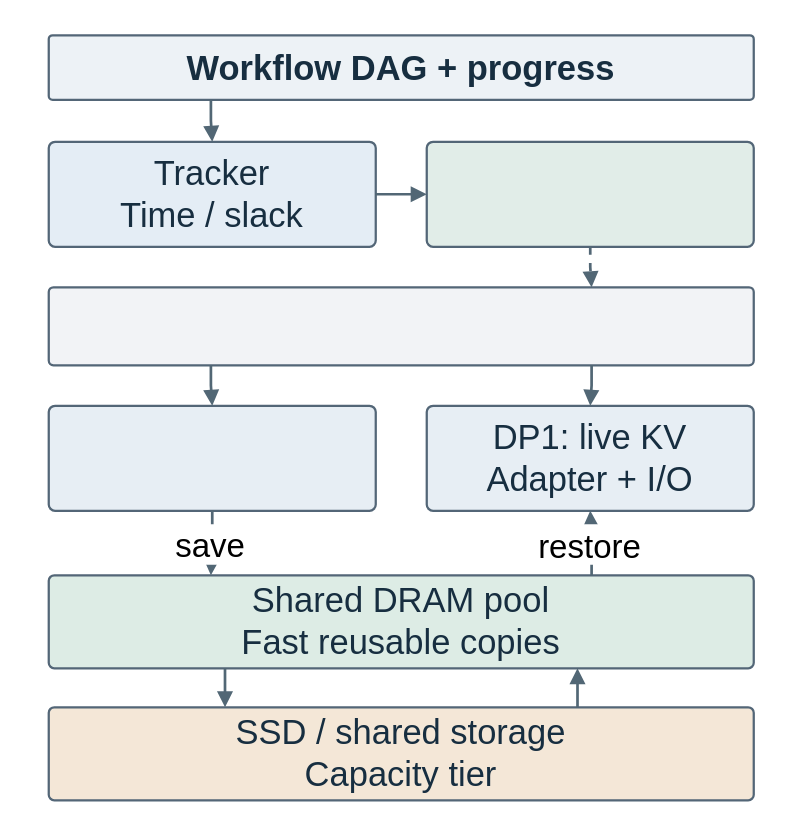
Some shapes in this 801 by 828 pixel diagram are drawn without their labels. The centre of each missing label's shape, as x and y in pixels:
DP0: live KV Adapter + I/O: [211,457]
KV Master Tier decisions: [589,193]
Router + surviving directory / token log: [400,325]
